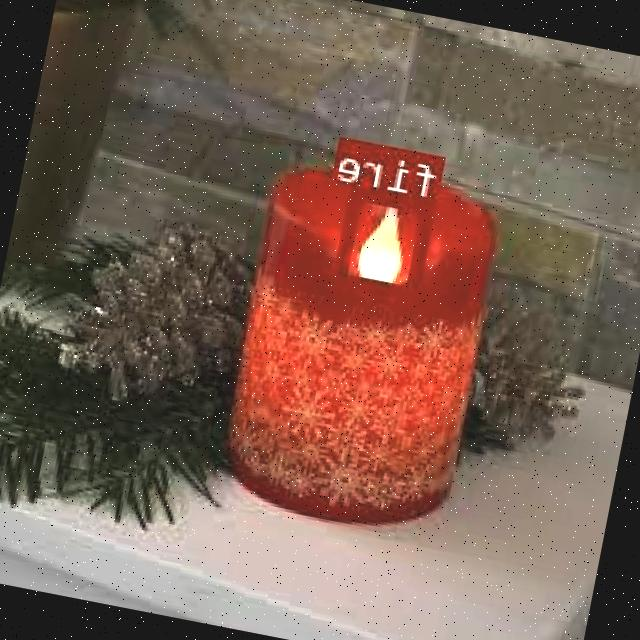fire: (336, 187, 439, 300)
